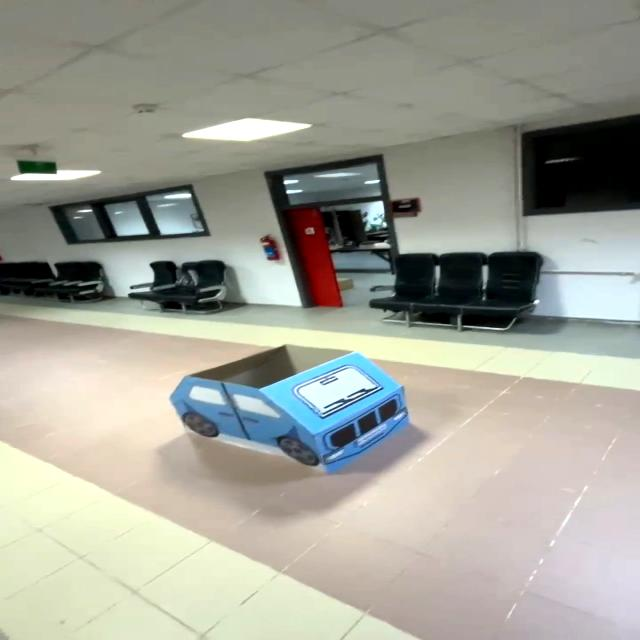blue_car: (151, 329, 440, 492)
